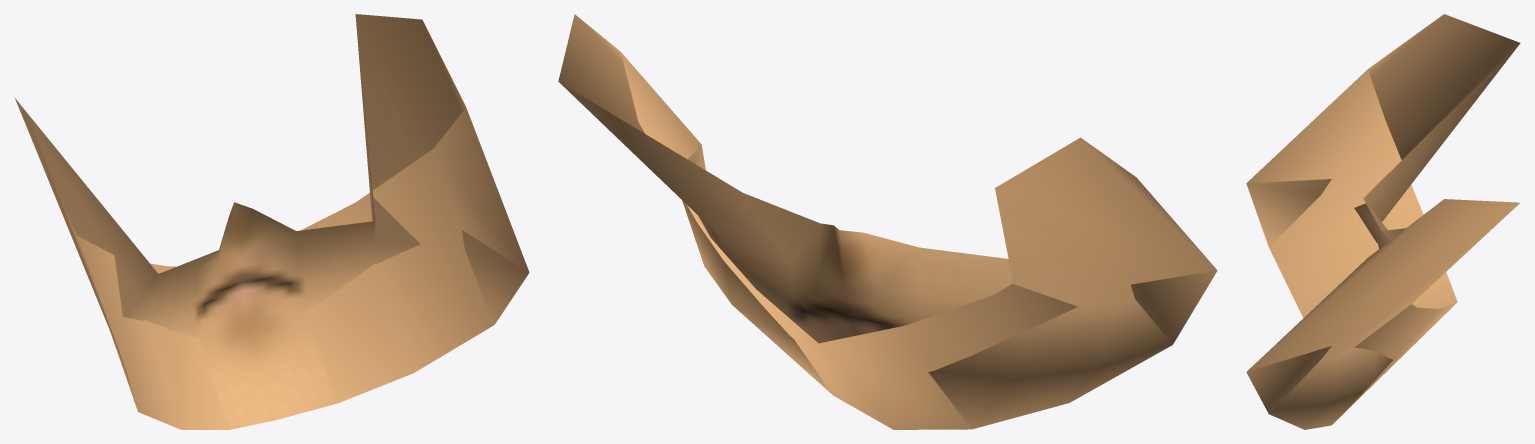
The model's file is batch_0027.obj.
3 renders of one model, left to right at view 1: azimuth 30°, elevation 25°; view 2: azimuth 150°, elevation 25°; view 3: azimuth 270°, elevation 25°, orthographic. The views are drawn at different scales.
Visible parts, largest first — view 1: batch_0027; view 2: batch_0027; view 3: batch_0027.
Part boxes in pixels (<box>): batch_0027: <box>15,14,529,429</box>; batch_0027: <box>558,14,1217,429</box>; batch_0027: <box>1246,14,1520,429</box>.
Bounding box in the file's own units: 24.81 × 18.5 × 15.25.
1 material, 1 textured.
